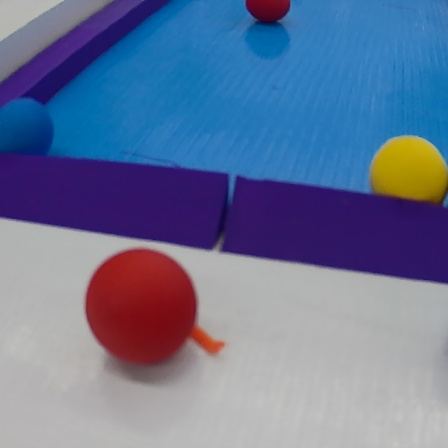blue: (0, 97, 57, 163)
blue_aim: (2, 3, 448, 285)
red: (85, 241, 211, 382)
yellow: (367, 135, 448, 222)
